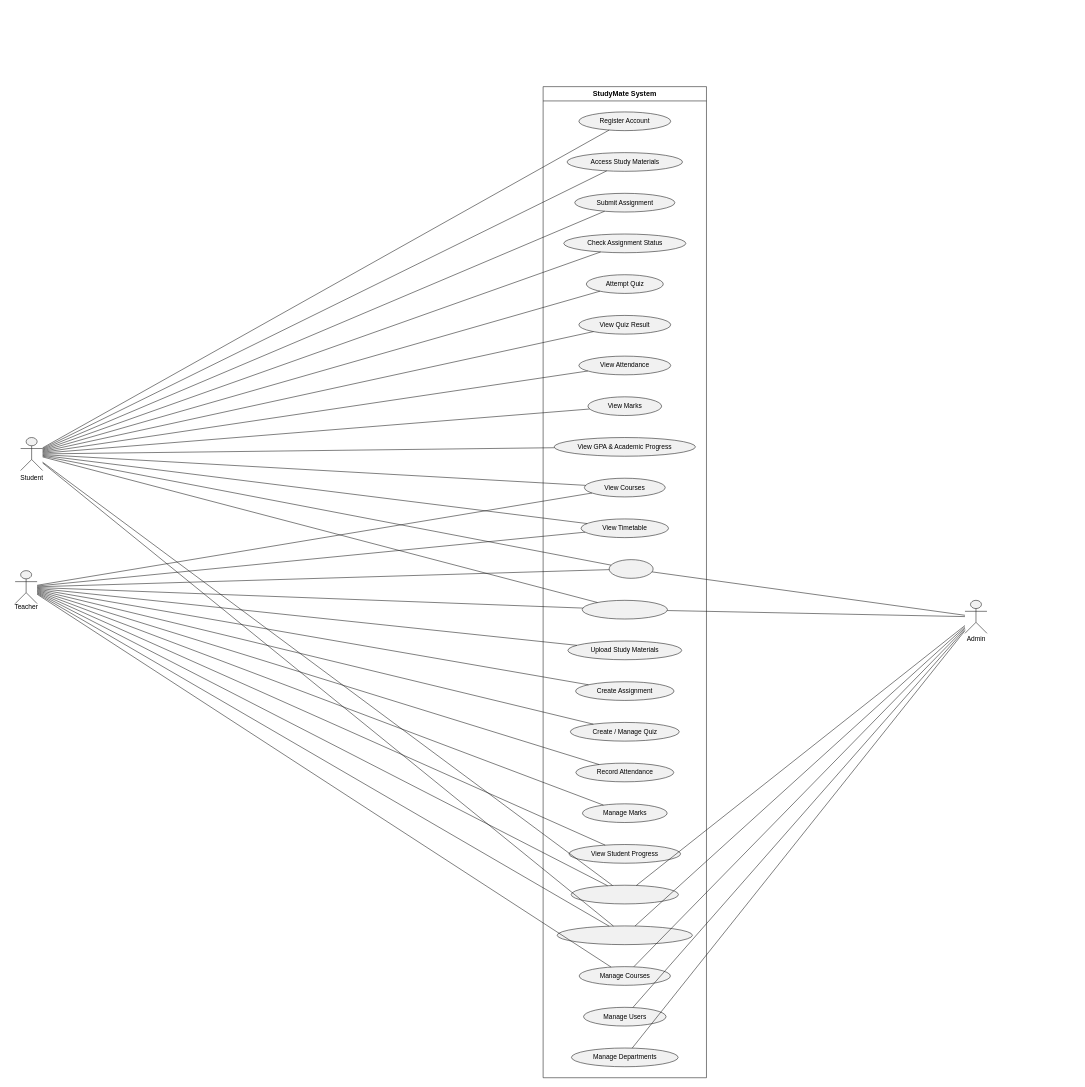
This 1085x1087 diagram has some shape labels left out. Each missing label, with the box of its shape:
Login: (609, 559, 653, 578)
Manage Profile: (582, 600, 667, 619)
Receive Notifications: (571, 885, 678, 904)
Search Academic Information: (557, 925, 692, 945)
